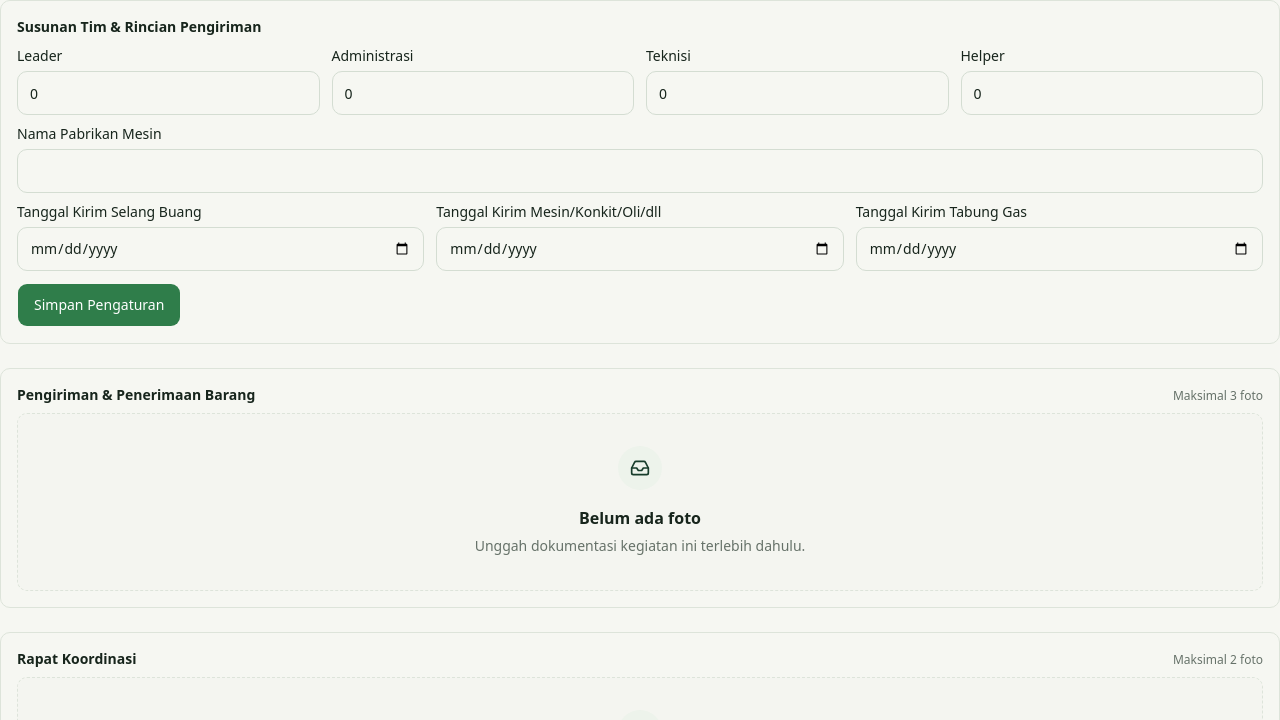
it: disables Generate while the settings draft has unsaved changes
Replace the text in the number field labelled "Leader" with "2". click: (168, 93)
box: top-left (17, 71), bottom-right (320, 115)
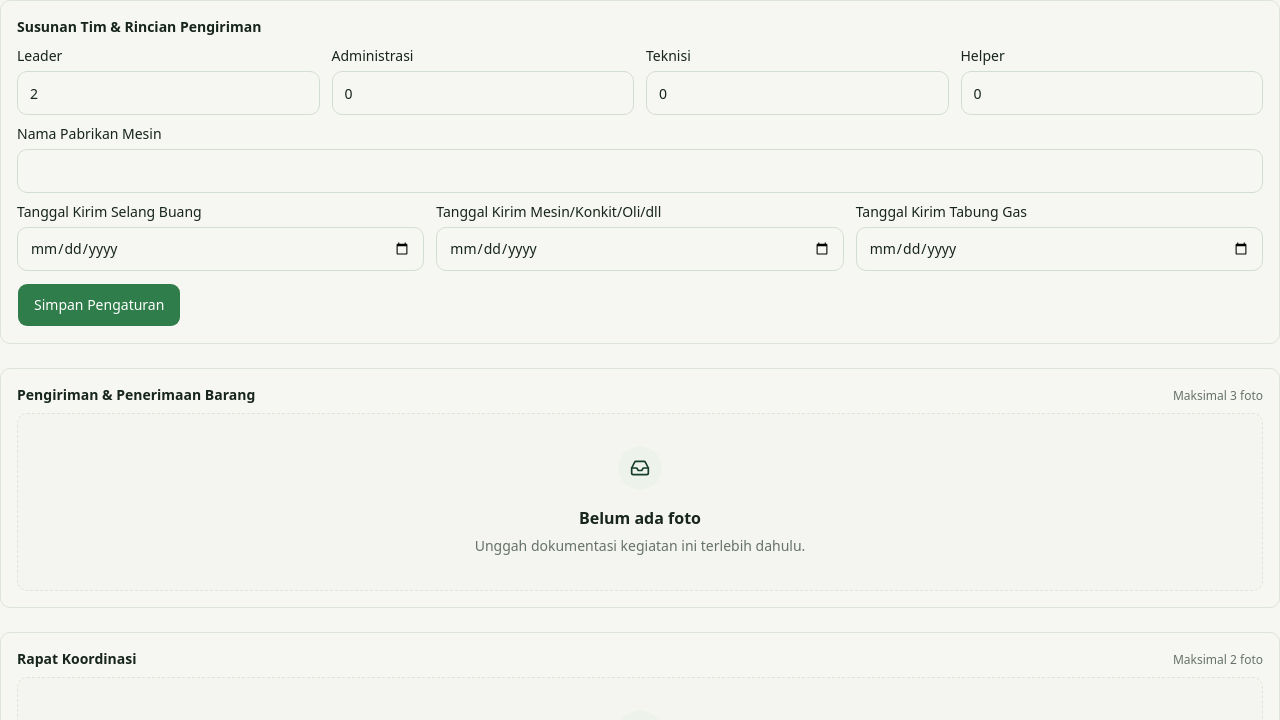
Replace the text in the number field labelled "Leader" with "0". click: (168, 93)
box: top-left (17, 71), bottom-right (320, 115)
(page scrolled)
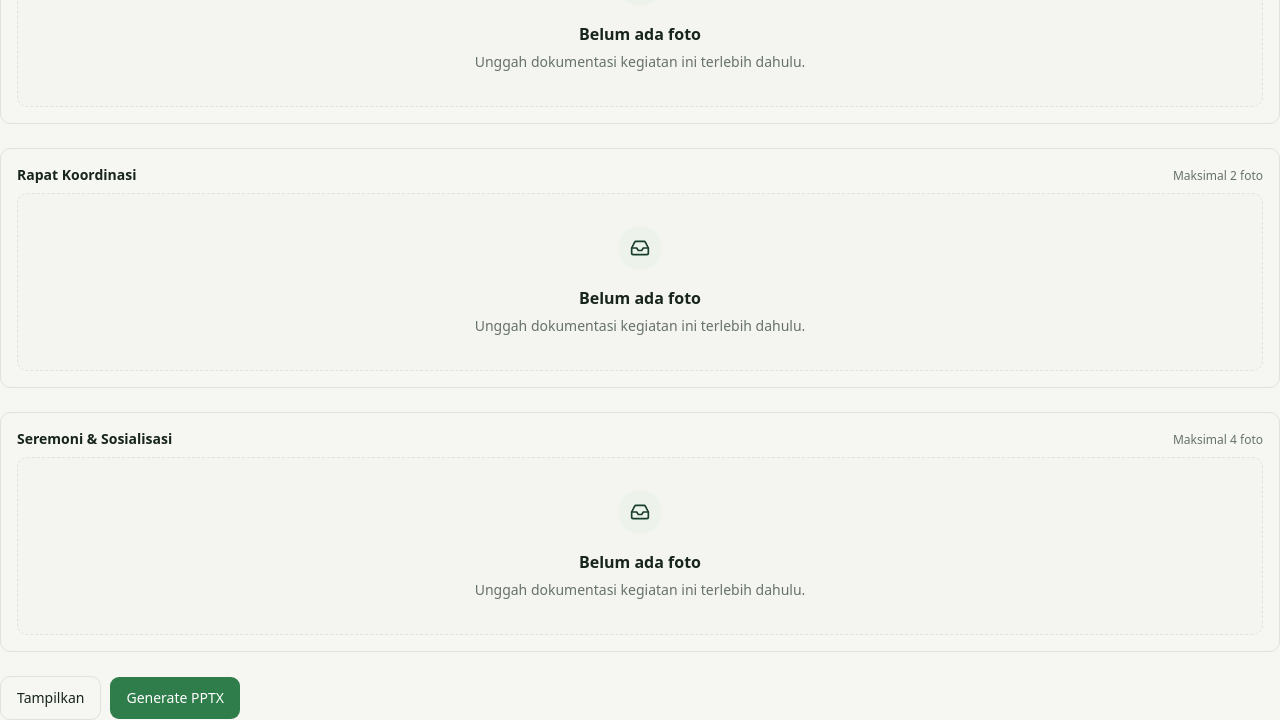
Result: the button "Generate PPTX" is enabled at top-left (109, 676), bottom-right (241, 719)
